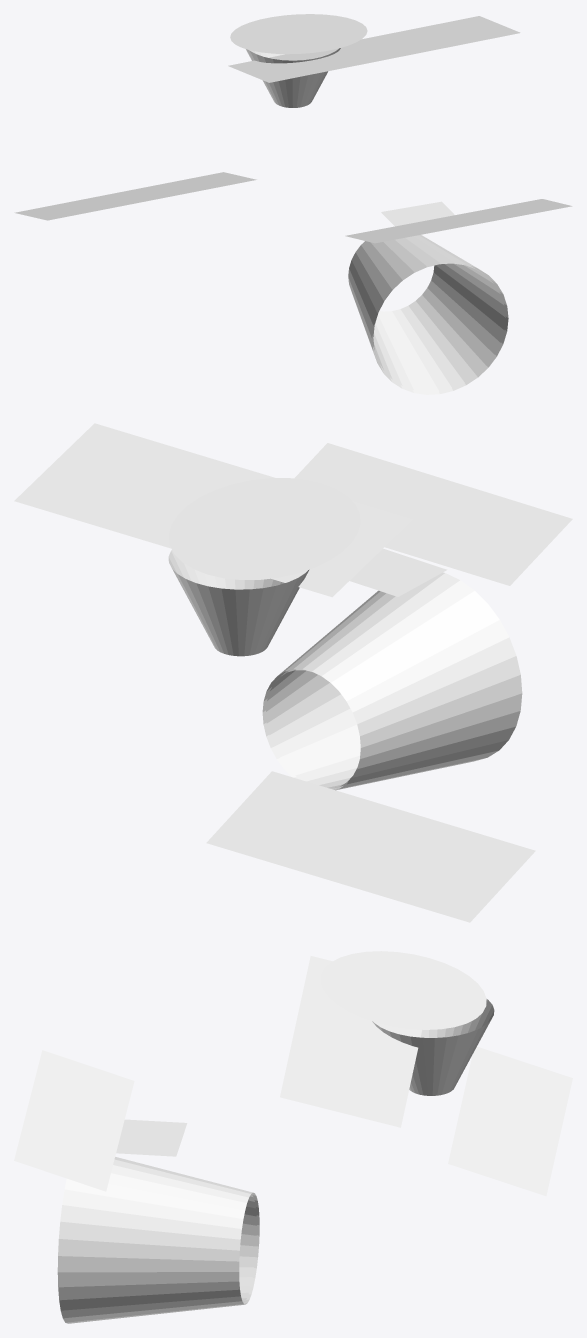
Rendered from Oculus-Labels-L.fbx.
The picture shows the model from 3 angles, top to bottom: view 1: azimuth 30°, elevation 25°; view 2: azimuth 150°, elevation 25°; view 3: azimuth 270°, elevation 25°; orthographic projection. The views are drawn at different scales.
Parts seen in each view (by area): view 1: Cylinder; view 2: Cylinder; view 3: Cylinder.
Part boxes in pixels (box(x1,y1,x2,y2)): Cylinder: box(14, 14, 572, 394); Cylinder: box(14, 423, 572, 922); Cylinder: box(14, 951, 572, 1323).
Bounding box in the file's own units: 13.21 × 8.56 × 13.03.
1 material, 1 textured.
